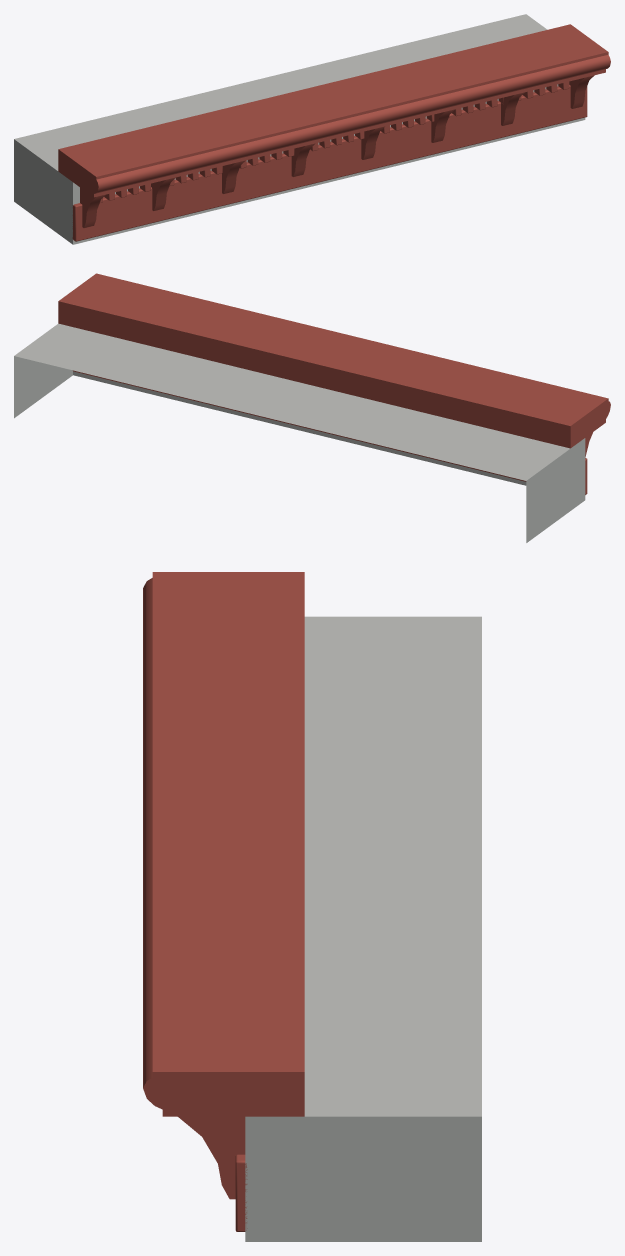
Rendered from cap_cornice_6.glb.
3 renders of one model, top to bottom at view 1: azimuth 30°, elevation 25°; view 2: azimuth 150°, elevation 25°; view 3: azimuth 270°, elevation 25°, orthographic. The views are drawn at different scales.
Parts seen in each view (by area): view 1: cap_cornice_6; view 2: cap_cornice_6; view 3: cap_cornice_6.
Part boxes in pixels (bbox=[...]): cap_cornice_6: bbox=[14, 14, 610, 244]; cap_cornice_6: bbox=[14, 273, 610, 542]; cap_cornice_6: bbox=[143, 572, 481, 1241].
Bounding box in the file's own units: 6 × 0.95 × 1.72.
